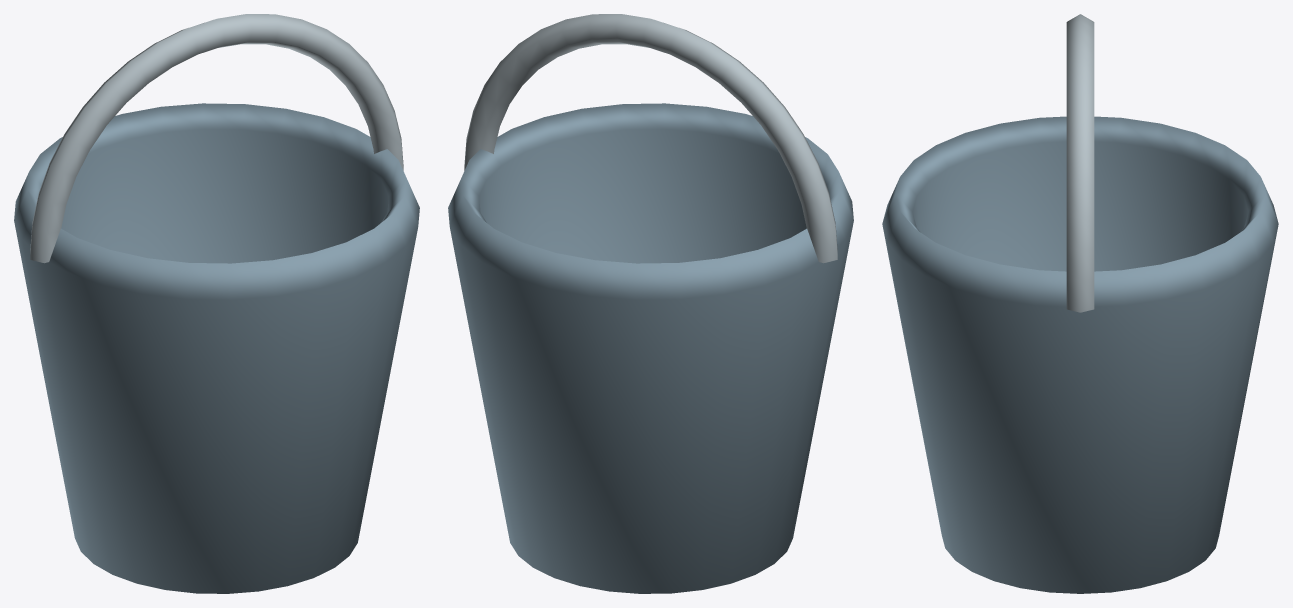
File: Bucket.glb
The picture shows the model from 3 angles, left to right: view 1: azimuth 30°, elevation 25°; view 2: azimuth 150°, elevation 25°; view 3: azimuth 270°, elevation 25°; orthographic projection. The views are drawn at different scales.
Visible parts, largest first — view 1: Bucket; view 2: Bucket; view 3: Bucket.
Boxes of the visible parts, <box> form: Bucket: <box>14,14,419,593</box>; Bucket: <box>448,14,853,593</box>; Bucket: <box>882,14,1278,593</box>.
Bounding box in the file's own units: 0.318 × 0.419 × 0.3.
